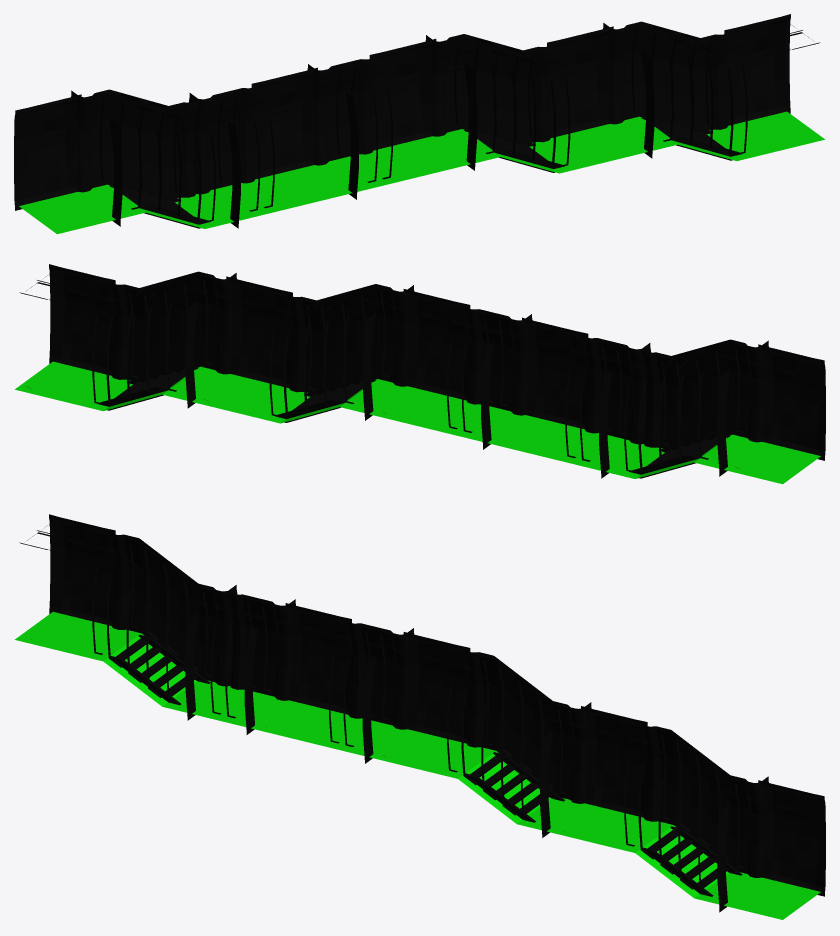
File: corridor_a.glb
3 renders of one model, top to bottom at view 1: azimuth 30°, elevation 25°; view 2: azimuth 150°, elevation 25°; view 3: azimuth 330°, elevation 25°, orthographic.
Parts seen in each view (by area): view 1: Corridor_A_Wall_Panels, Corridor_A_Stone_Wall, Corridor_A_Floor, Corridor_A_Ceiling, Corridor_A_Stairs; view 2: Corridor_A_Wall_Panels, Corridor_A_Stone_Wall, Corridor_A_Floor, Corridor_A_Ceiling, Corridor_A_Stairs; view 3: Corridor_A_Wall_Panels, Corridor_A_Stone_Wall, Corridor_A_Floor, Corridor_A_Stairs, Corridor_A_Ceiling.
Part boxes in pixels (left/top/right/bottom): Corridor_A_Wall_Panels: left=71, top=21, right=747, bottom=228; Corridor_A_Stone_Wall: left=14, top=14, right=790, bottom=210; Corridor_A_Floor: left=19, top=111, right=824, bottom=234; Corridor_A_Ceiling: left=24, top=19, right=820, bottom=137; Corridor_A_Stairs: left=109, top=115, right=741, bottom=228; Corridor_A_Wall_Panels: left=92, top=271, right=768, bottom=478; Corridor_A_Stone_Wall: left=26, top=264, right=825, bottom=468; Corridor_A_Floor: left=15, top=361, right=820, bottom=484; Corridor_A_Ceiling: left=19, top=269, right=815, bottom=387; Corridor_A_Stairs: left=98, top=365, right=730, bottom=478; Corridor_A_Wall_Panels: left=92, top=532, right=768, bottom=912; Corridor_A_Stone_Wall: left=31, top=514, right=825, bottom=896; Corridor_A_Floor: left=14, top=612, right=820, bottom=919; Corridor_A_Stairs: left=110, top=634, right=742, bottom=896; Corridor_A_Ceiling: left=19, top=520, right=817, bottom=822.
Size of what is drawn, in the model's own units: 26.25 by 6.25 by 3.25.
